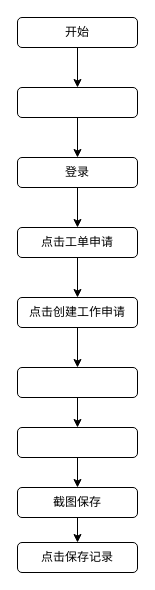
Image size: 155x590. Some labels were removed from this diagram. The shapes that lost their labels are listed below. From the top down, each one's box as (x1, y1, x2, y2) in pixels, then its label:
(16, 86, 138, 118): 打开网页
(16, 366, 138, 398): 点击新建记录
(16, 426, 138, 458): 输入必选项
